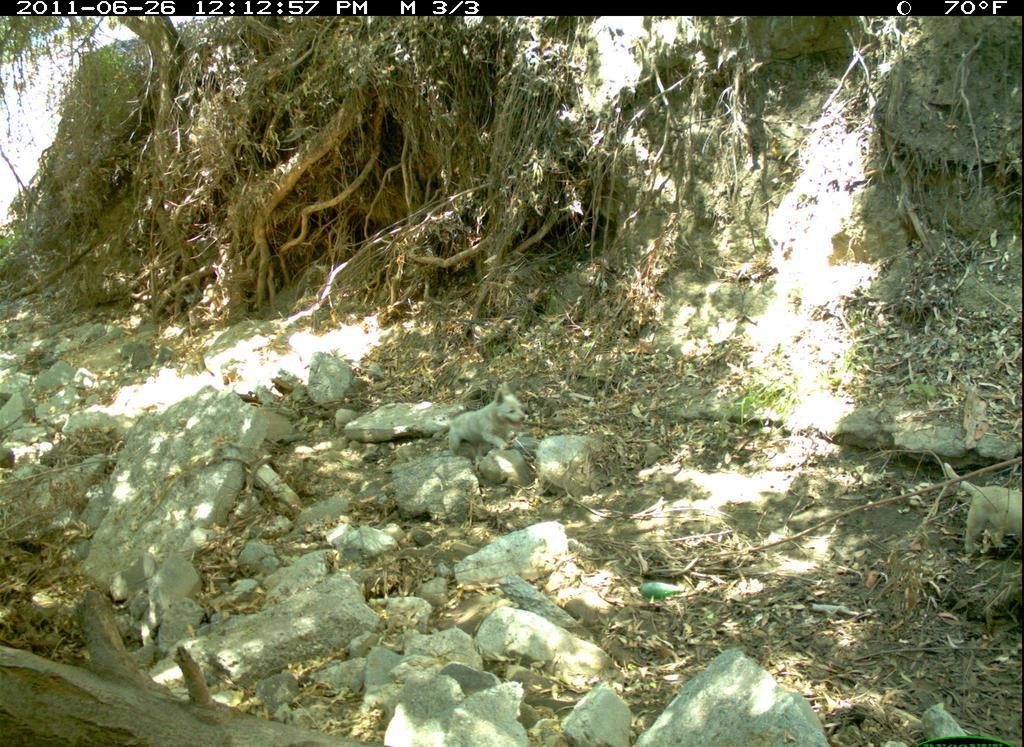dog: (936, 443, 1023, 574), (431, 381, 534, 461)
